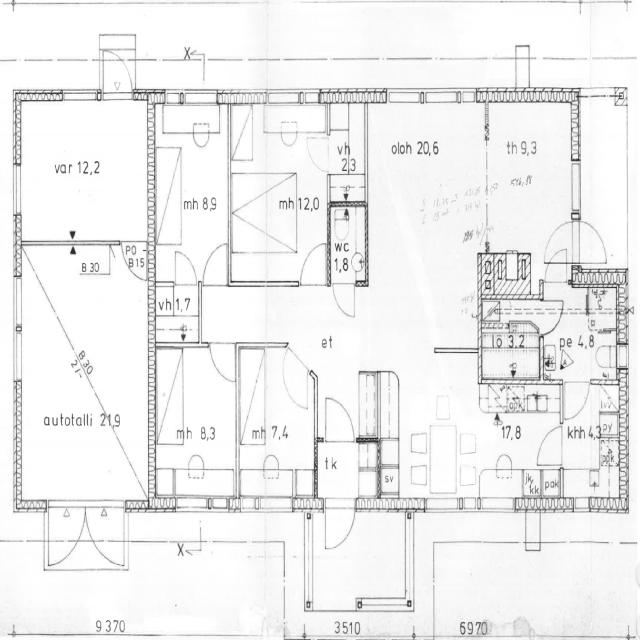door: (153, 280, 203, 346), (329, 203, 367, 284), (280, 344, 311, 414), (322, 498, 356, 556), (100, 48, 137, 101), (322, 393, 356, 447), (207, 338, 239, 386), (201, 239, 231, 290), (298, 240, 328, 290), (577, 218, 607, 268), (543, 218, 573, 264), (562, 377, 590, 424), (304, 131, 333, 176), (536, 422, 564, 468), (121, 240, 150, 283), (172, 247, 199, 291), (331, 279, 358, 321), (540, 300, 564, 337), (544, 245, 570, 274)
window: (173, 495, 226, 516), (10, 325, 26, 389), (568, 156, 583, 219), (11, 272, 26, 332), (10, 160, 24, 221), (60, 85, 100, 105), (181, 87, 220, 107), (266, 87, 304, 107), (423, 88, 464, 106), (386, 86, 422, 105), (478, 498, 516, 516), (163, 87, 184, 104)
zone: (365, 93, 488, 354), (15, 96, 154, 244), (229, 97, 331, 288), (486, 99, 576, 255), (152, 99, 230, 274), (154, 342, 238, 491), (456, 381, 562, 492), (238, 344, 316, 484), (560, 406, 622, 518), (540, 310, 617, 380), (312, 443, 378, 506), (328, 97, 366, 201), (480, 325, 540, 381), (152, 281, 202, 347), (328, 204, 368, 285), (521, 467, 562, 509)
